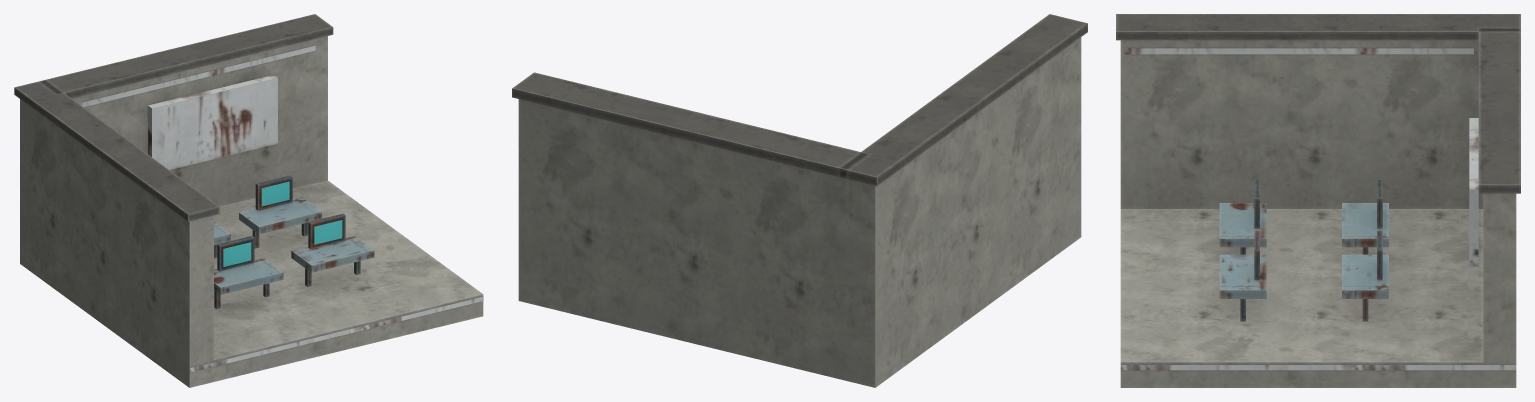
File: academy.glb
The picture shows the model from 3 angles, left to right: view 1: azimuth 30°, elevation 25°; view 2: azimuth 150°, elevation 25°; view 3: azimuth 270°, elevation 25°; orthographic projection. The views are drawn at different scales.
Visible parts, largest first — view 1: te_academy; view 2: te_academy; view 3: te_academy.
Boxes of the visible parts, x1,y1,x2,y2 form: te_academy: (14,14,483,387); te_academy: (512,14,1087,387); te_academy: (1116,14,1520,387).
Bounding box in the file's own units: 0.86 × 0.48 × 0.86.
Materials: 1 (1 with a texture image).
